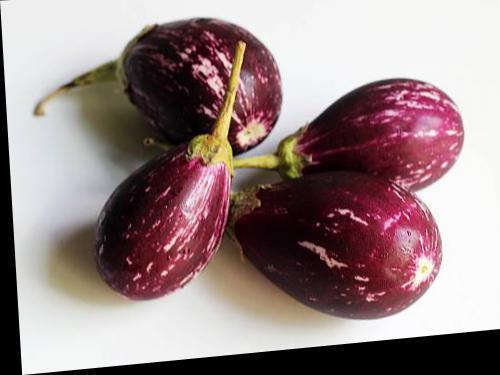eggplant: (66, 58, 264, 305), (42, 0, 300, 171), (225, 136, 440, 340), (236, 46, 483, 220)
